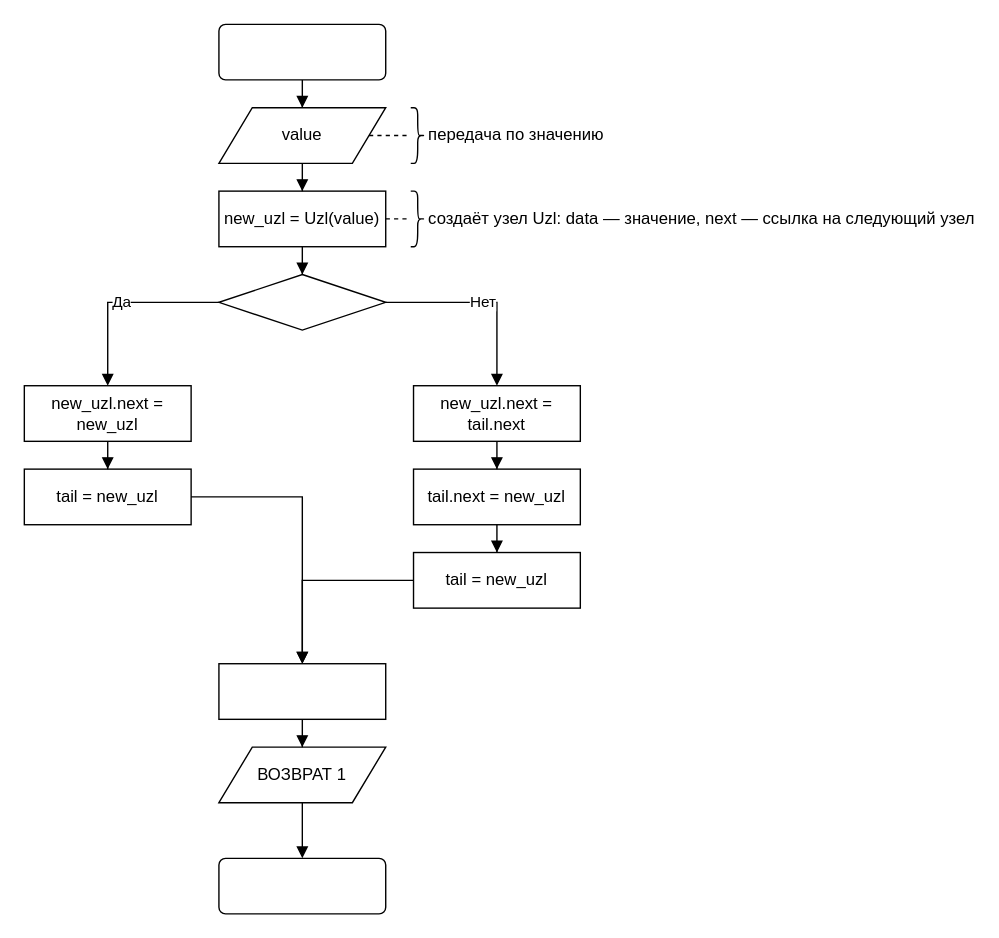
This 999x938 diagram has some shape labels left out. The centre of each missing label's shape, as x and y in pixels:
"add НАЧАЛО" goes at [302,51].
"size = size + 1" goes at [302,690].
"tail = None" goes at [302,301].
"КОНЕЦ add" goes at [302,885].
